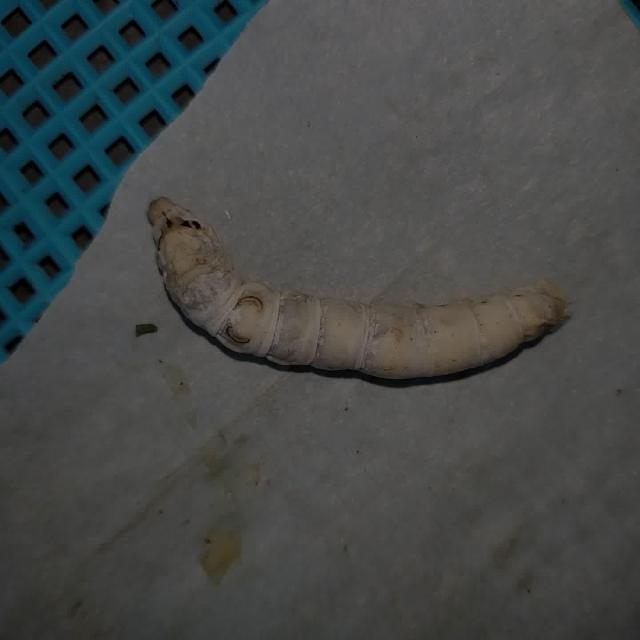Grasserie: (145, 189, 572, 403)
